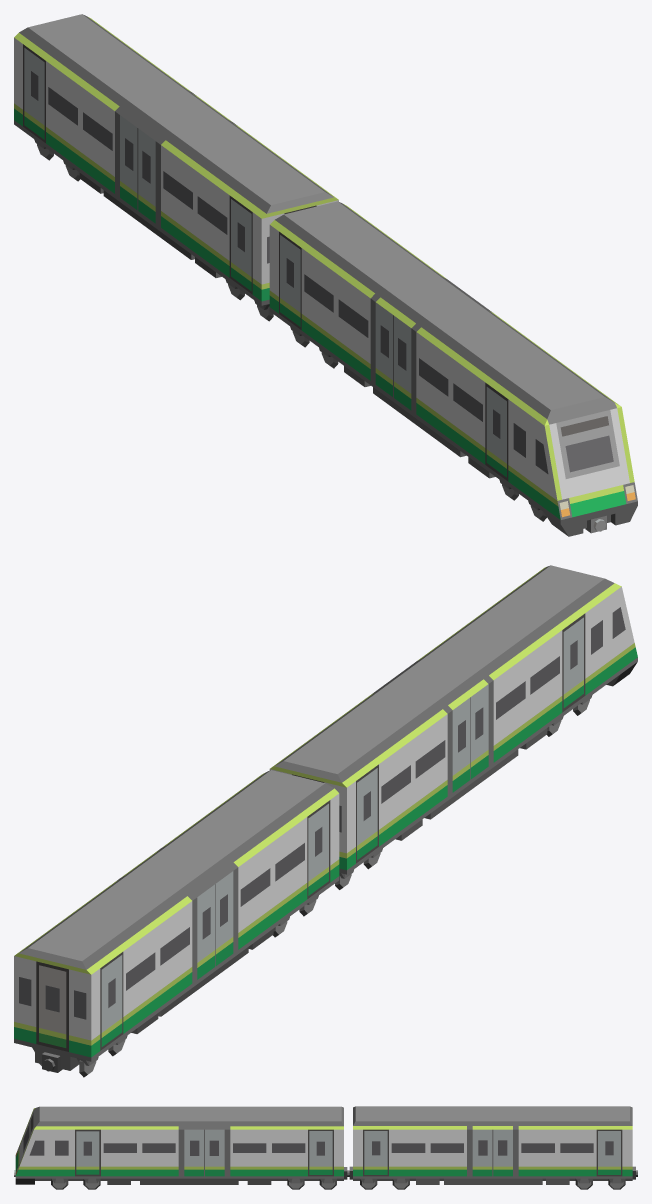
The model's file is west_huoche05.FBX.
3 views of the same model, one above another, from view 1: azimuth 30°, elevation 25°; view 2: azimuth 150°, elevation 25°; view 3: azimuth 270°, elevation 25° (orthographic). The views are drawn at different scales.
Parts seen in each view (by area): view 1: west_huoche05; view 2: west_huoche05; view 3: west_huoche05.
Part boxes in pixels (box(x1,y1,x2,y2)): west_huoche05: box(14, 14, 637, 536); west_huoche05: box(14, 565, 637, 1077); west_huoche05: box(14, 1106, 637, 1189).
Size of the model in its own units: 1158 by 1773 by 14312.
